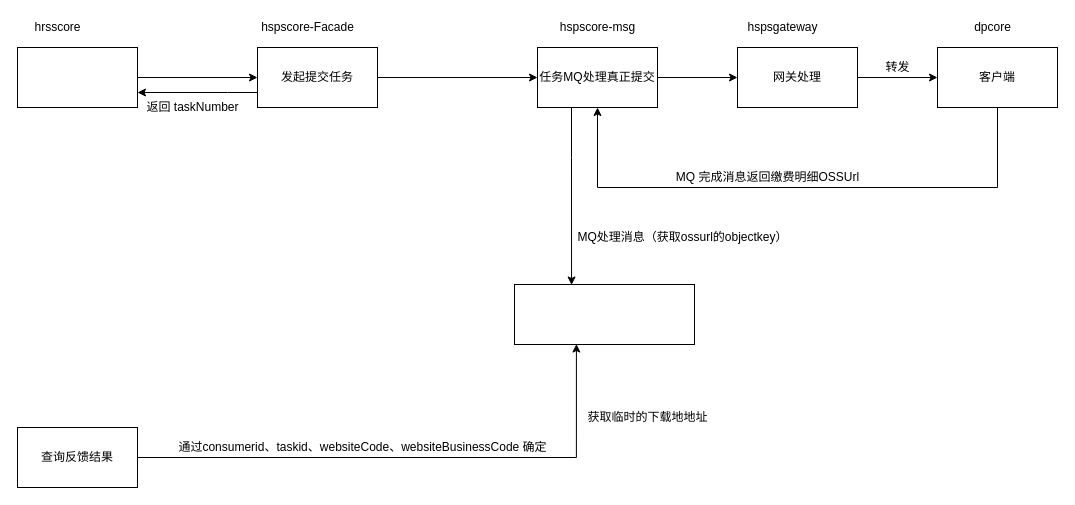
This 1075x505 diagram has some shape labels left out. Here are the shapes that lost their labels. From the top down, the box of each, then its label:
(16, 46, 138, 108): 查询缴费明细
(514, 284, 694, 344): 落入本地库 hpc_business_task_detail
